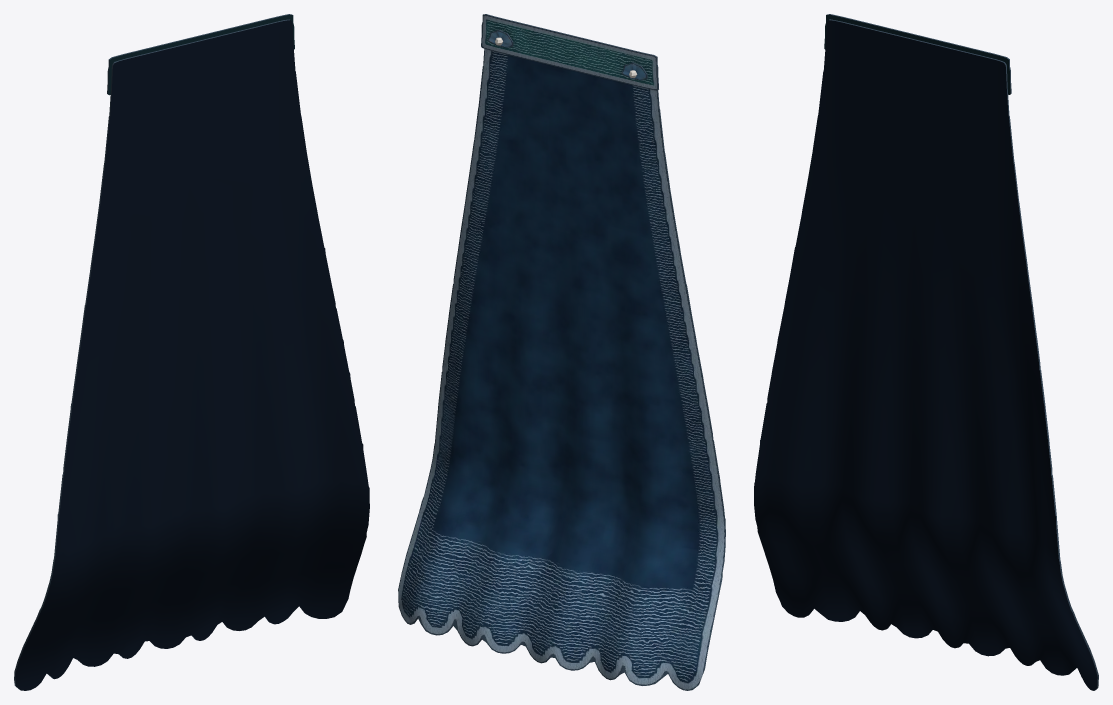
The model's file is cape_abyssal.glb.
3 views of the same model, side by side, from view 1: azimuth 30°, elevation 25°; view 2: azimuth 150°, elevation 25°; view 3: azimuth 330°, elevation 25° (orthographic). The views are drawn at different scales.
Visible parts, largest first — view 1: cape; view 2: cape; view 3: cape.
Part boxes in pixels (x1,y1,x2,y2): cape: [14, 14, 369, 690]; cape: [398, 14, 725, 690]; cape: [754, 14, 1098, 690].
Bounding box in the file's own units: 0.5491 × 1.02 × 0.1441.
1 material, 1 textured.
